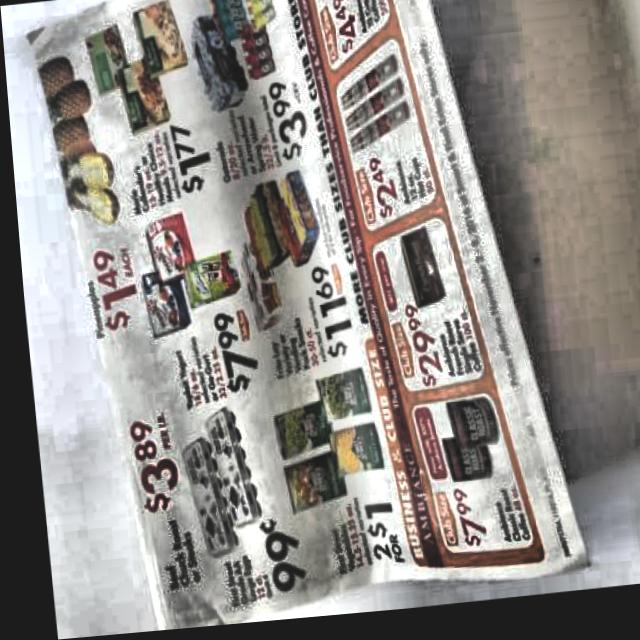Paper: (19, 0, 580, 639)
